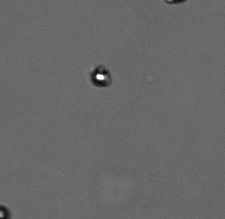Living Cell: (91, 67, 111, 86)
